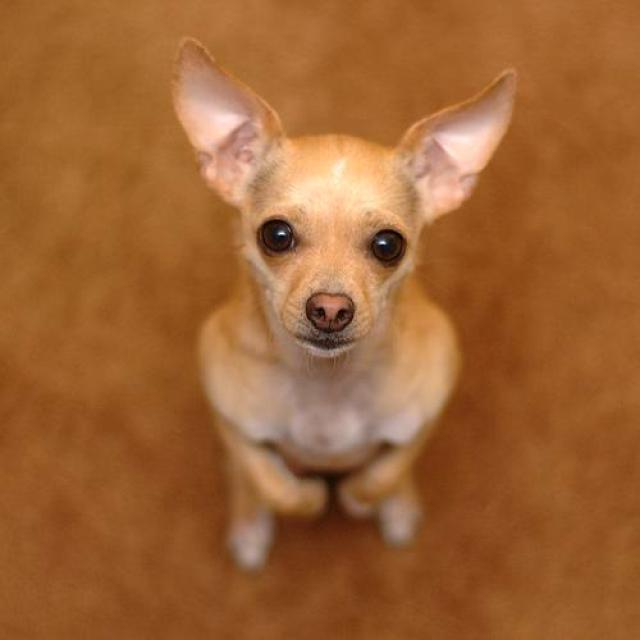chihuahua: (164, 33, 520, 566)
